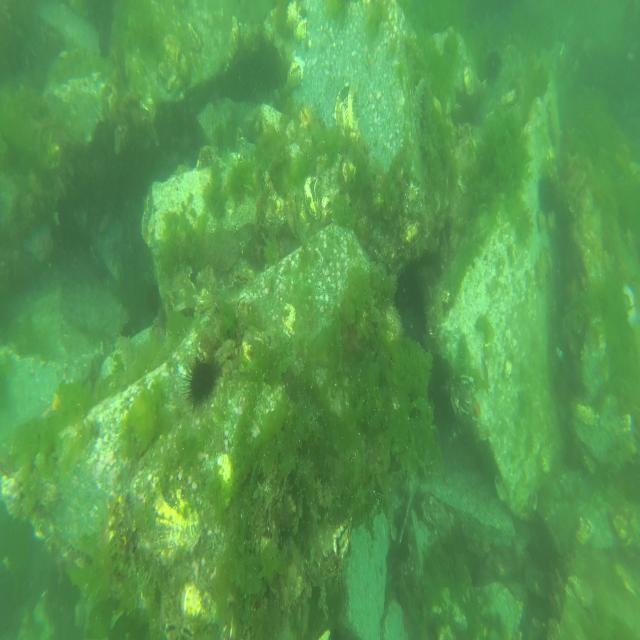echinus: (178, 346, 229, 415), (536, 167, 559, 222), (482, 46, 505, 86)
